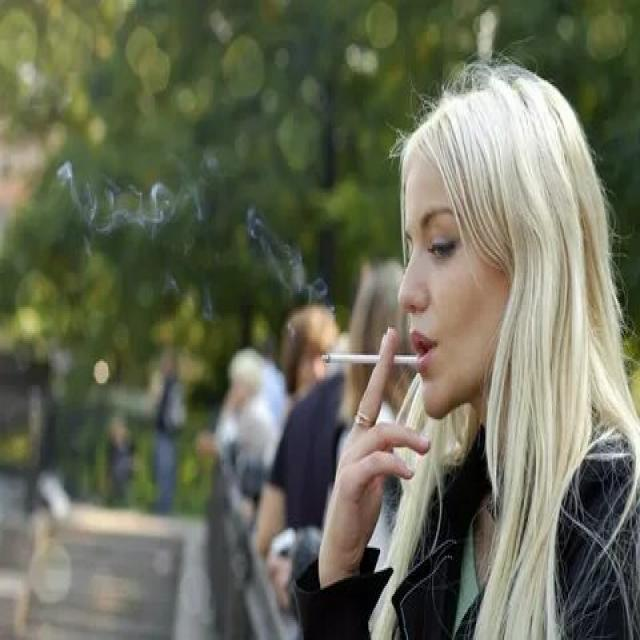cigarette: (319, 351, 421, 371)
